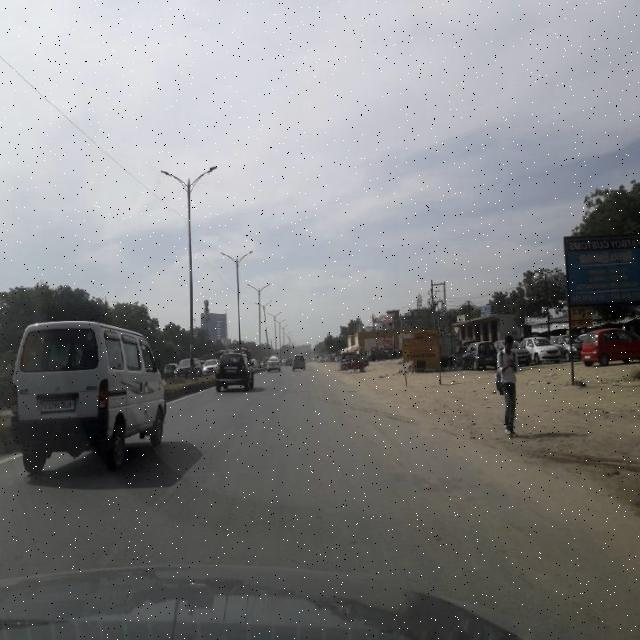D44: (148, 412, 235, 514)
